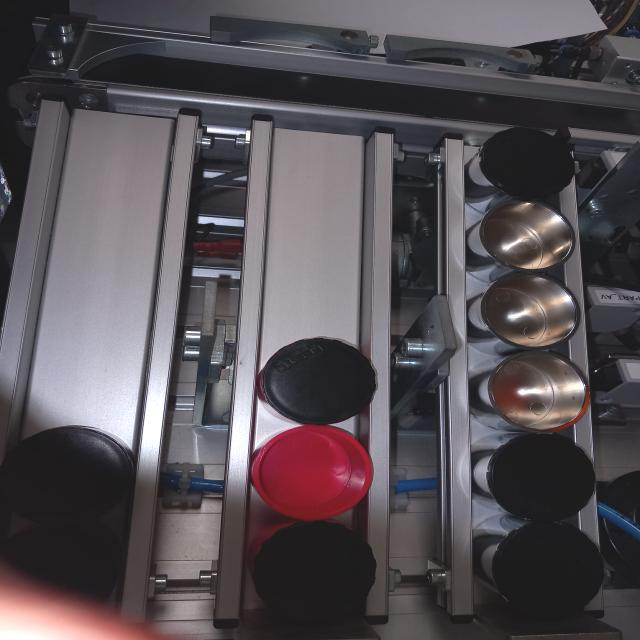NoLid: (472, 195, 591, 289), (257, 428, 382, 515), (474, 361, 590, 437), (471, 278, 578, 359)
Workpiece: (241, 526, 390, 628), (474, 523, 605, 621), (472, 431, 587, 523), (267, 332, 373, 430), (464, 124, 585, 197)
